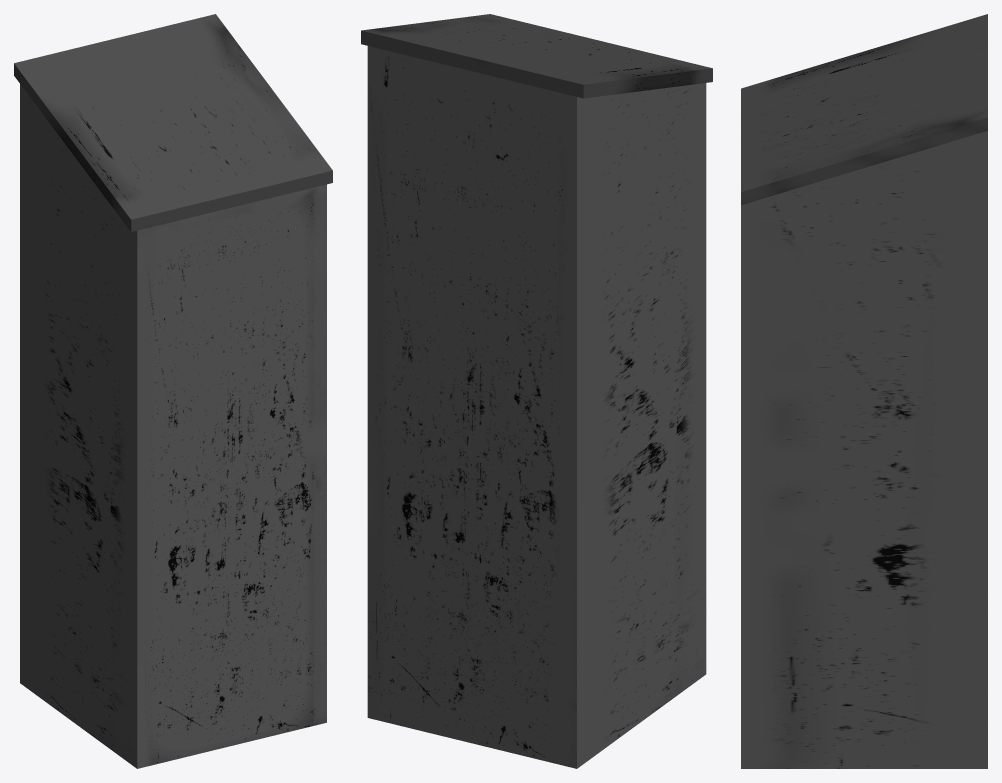
The model's file is Base_Ground_3x3_Ramp_V1.fbx.
The picture shows the model from 3 angles, left to right: view 1: azimuth 30°, elevation 25°; view 2: azimuth 150°, elevation 25°; view 3: azimuth 270°, elevation 25°; orthographic projection. The views are drawn at different scales.
Visible parts, largest first — view 1: Base Ground 3x3 Ramp V1; view 2: Base Ground 3x3 Ramp V1; view 3: Base Ground 3x3 Ramp V1.
Part boxes in pixels (<box>): Base Ground 3x3 Ramp V1: <box>14,14,332,768</box>; Base Ground 3x3 Ramp V1: <box>361,14,712,768</box>; Base Ground 3x3 Ramp V1: <box>741,14,987,768</box>.
Bounding box in the file's own units: 298 × 878 × 300.
